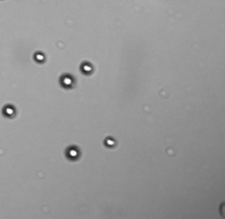Living Cell: (59, 72, 76, 90), (64, 144, 81, 161), (80, 61, 94, 75), (2, 104, 16, 118), (103, 135, 116, 148), (33, 51, 46, 63)
